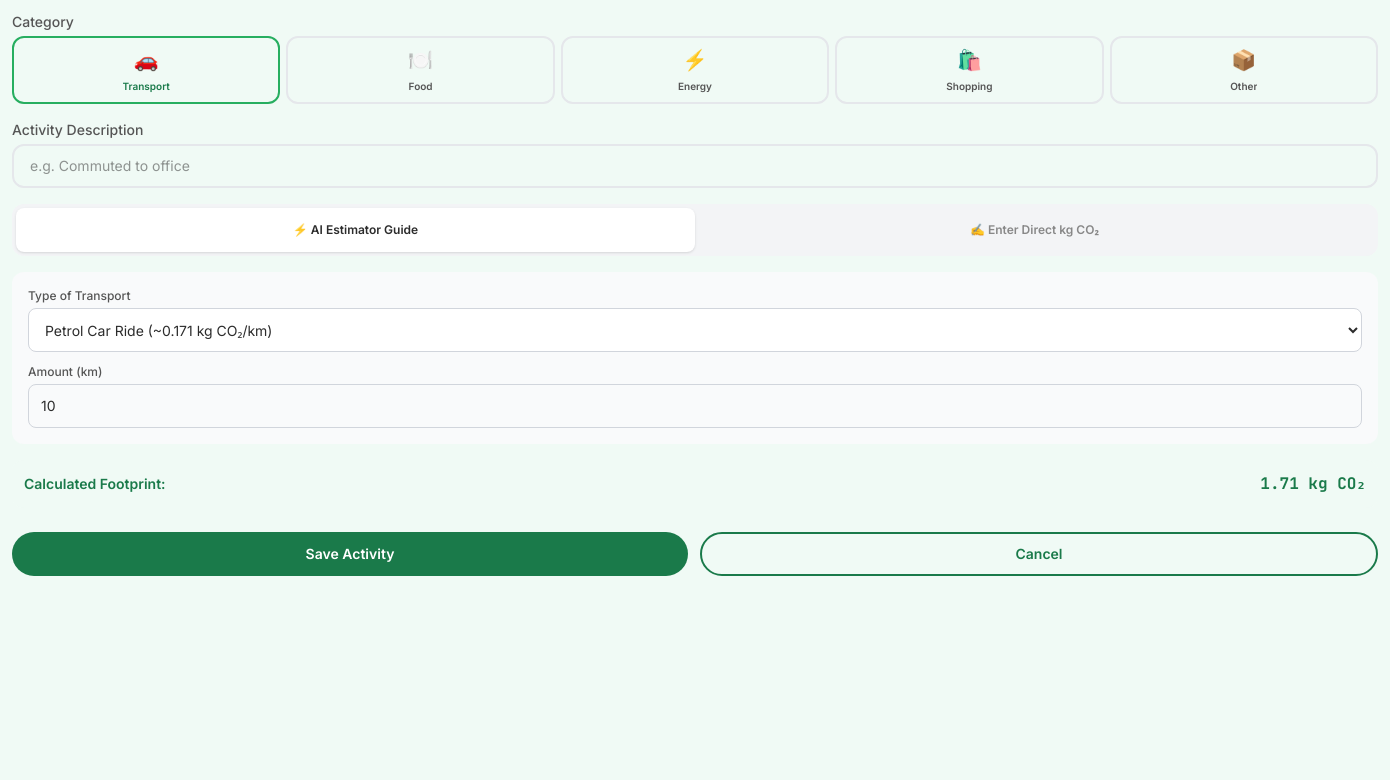
Test case: AddEntryForm Component Tests › calculates shopping polyester emission correctly
The image size is (1390, 780).
Click the button with aria-label "shopping category" at (969, 70), box [835, 36, 1104, 104]
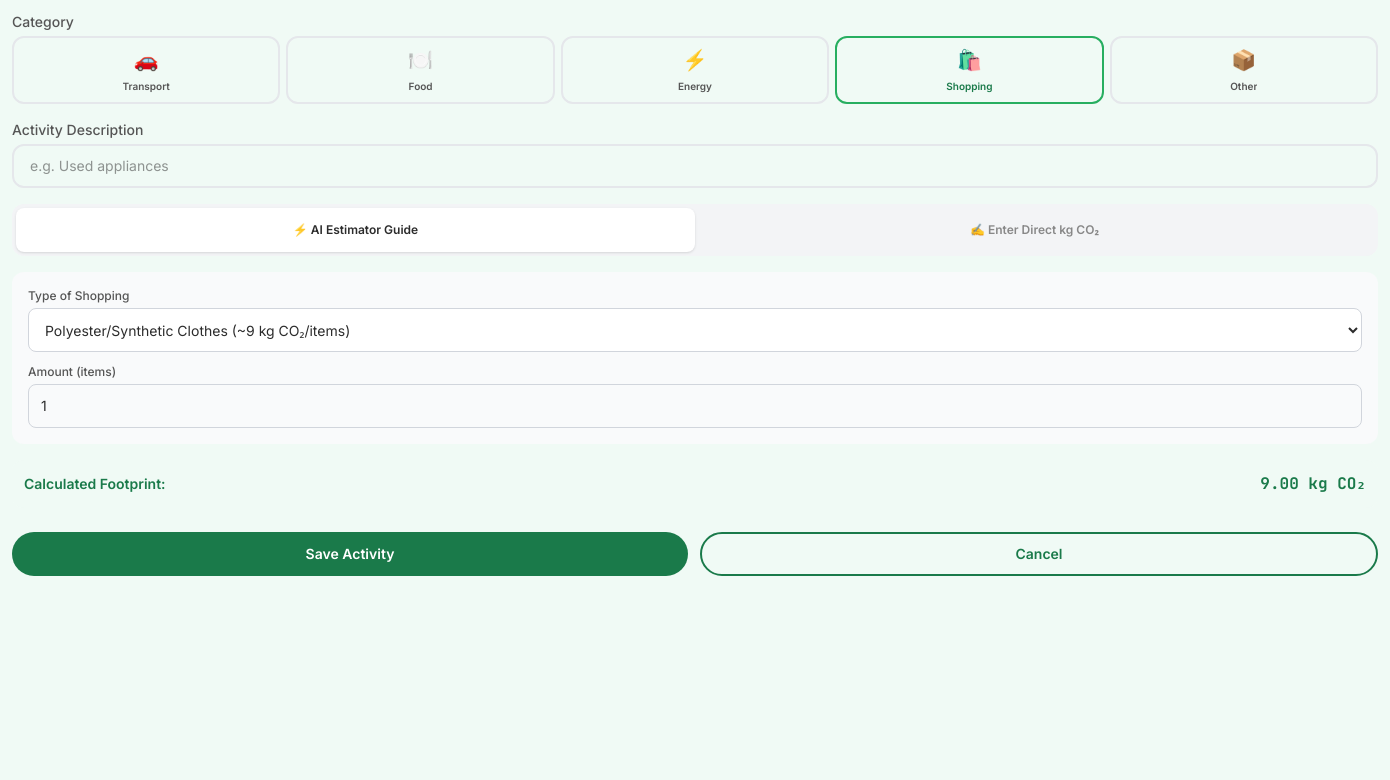
Type "New t-shirt" into the field labelled "Activity Description" at (695, 166), box [12, 144, 1378, 188]
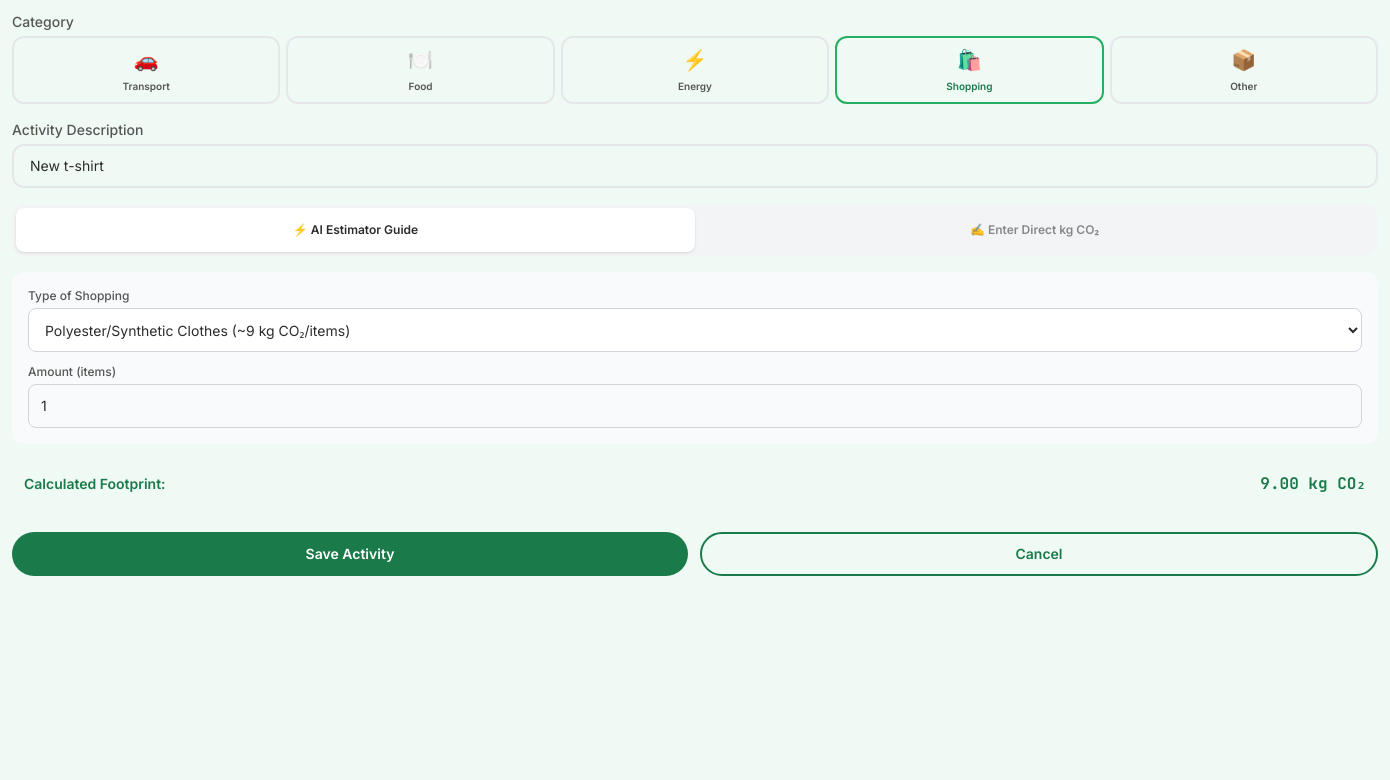
Select "Polyester/Synthetic Clothes (~9 kg CO₂/items)" in the dropdown labelled "Type of Shopping" at (695, 330), box [28, 308, 1362, 352]
Replace the text in the number field labelled "Amount (items)" with "3" at (695, 406), box [28, 384, 1362, 428]
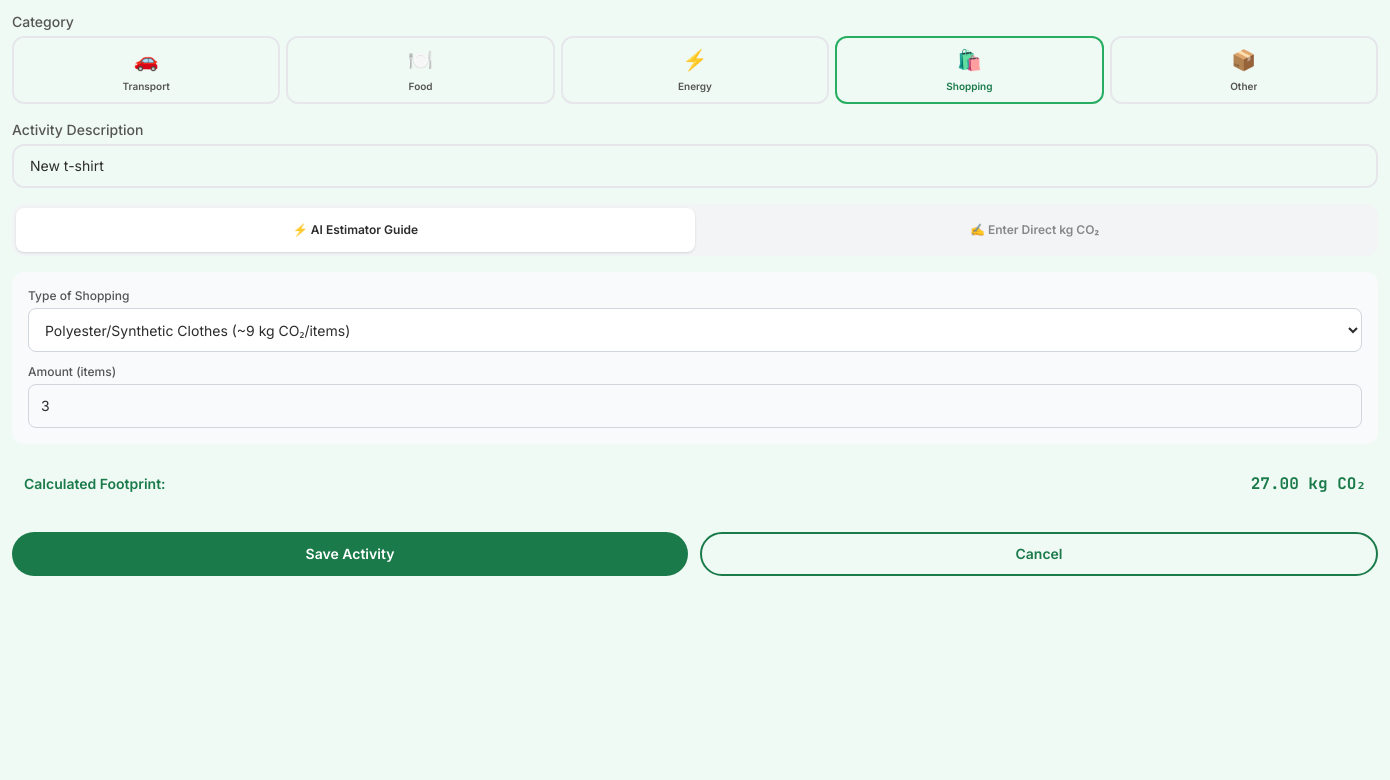
Check: the text "27.00 kg CO₂" is shown, box [1251, 472, 1366, 496]
